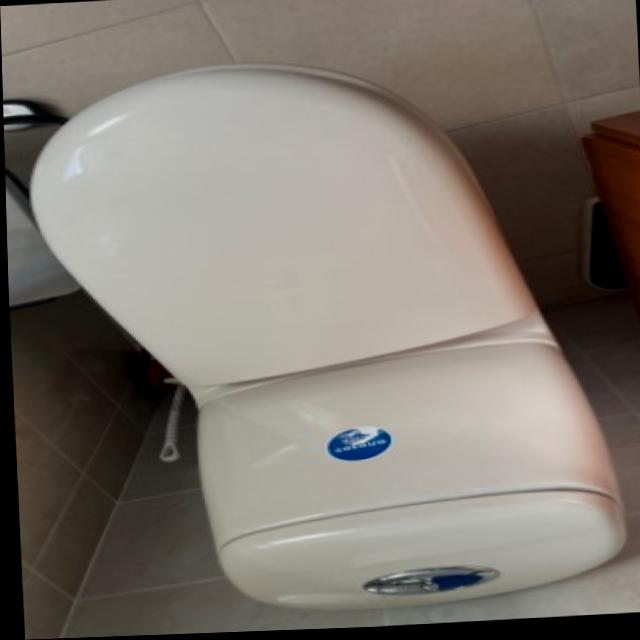toilet: (20, 48, 626, 628)
